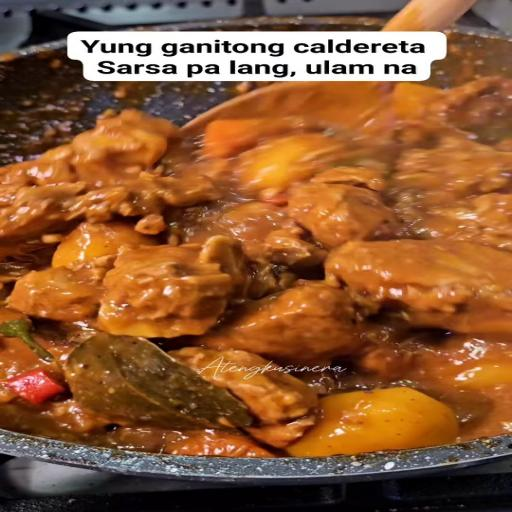pork caldereta: (0, 95, 512, 440)
